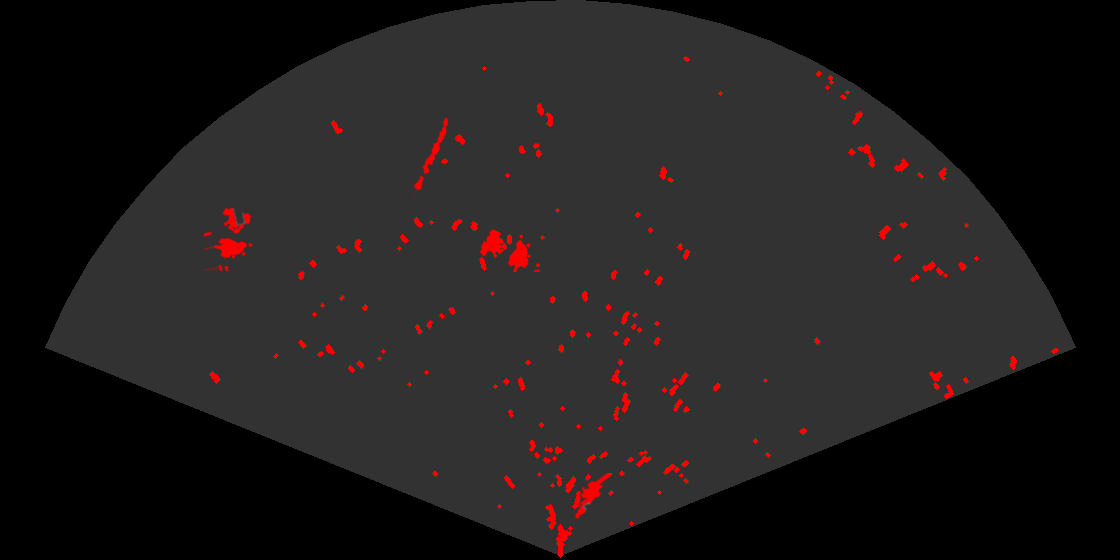cage: (204, 206, 254, 271), (478, 228, 540, 272)
chain: (411, 115, 450, 198)
frogman: (570, 473, 612, 521)
